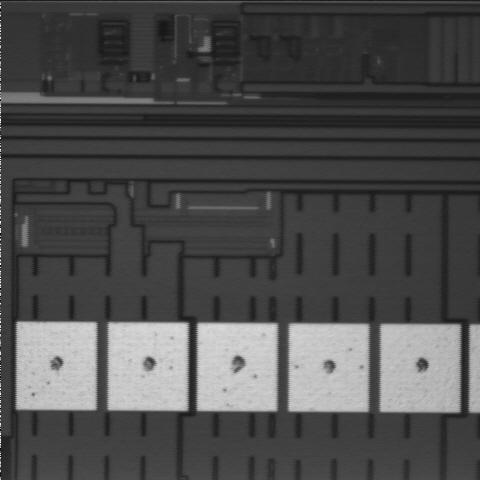pad: (17, 322, 96, 410), (198, 323, 277, 411), (289, 324, 368, 411), (109, 323, 187, 410), (381, 325, 459, 412)
